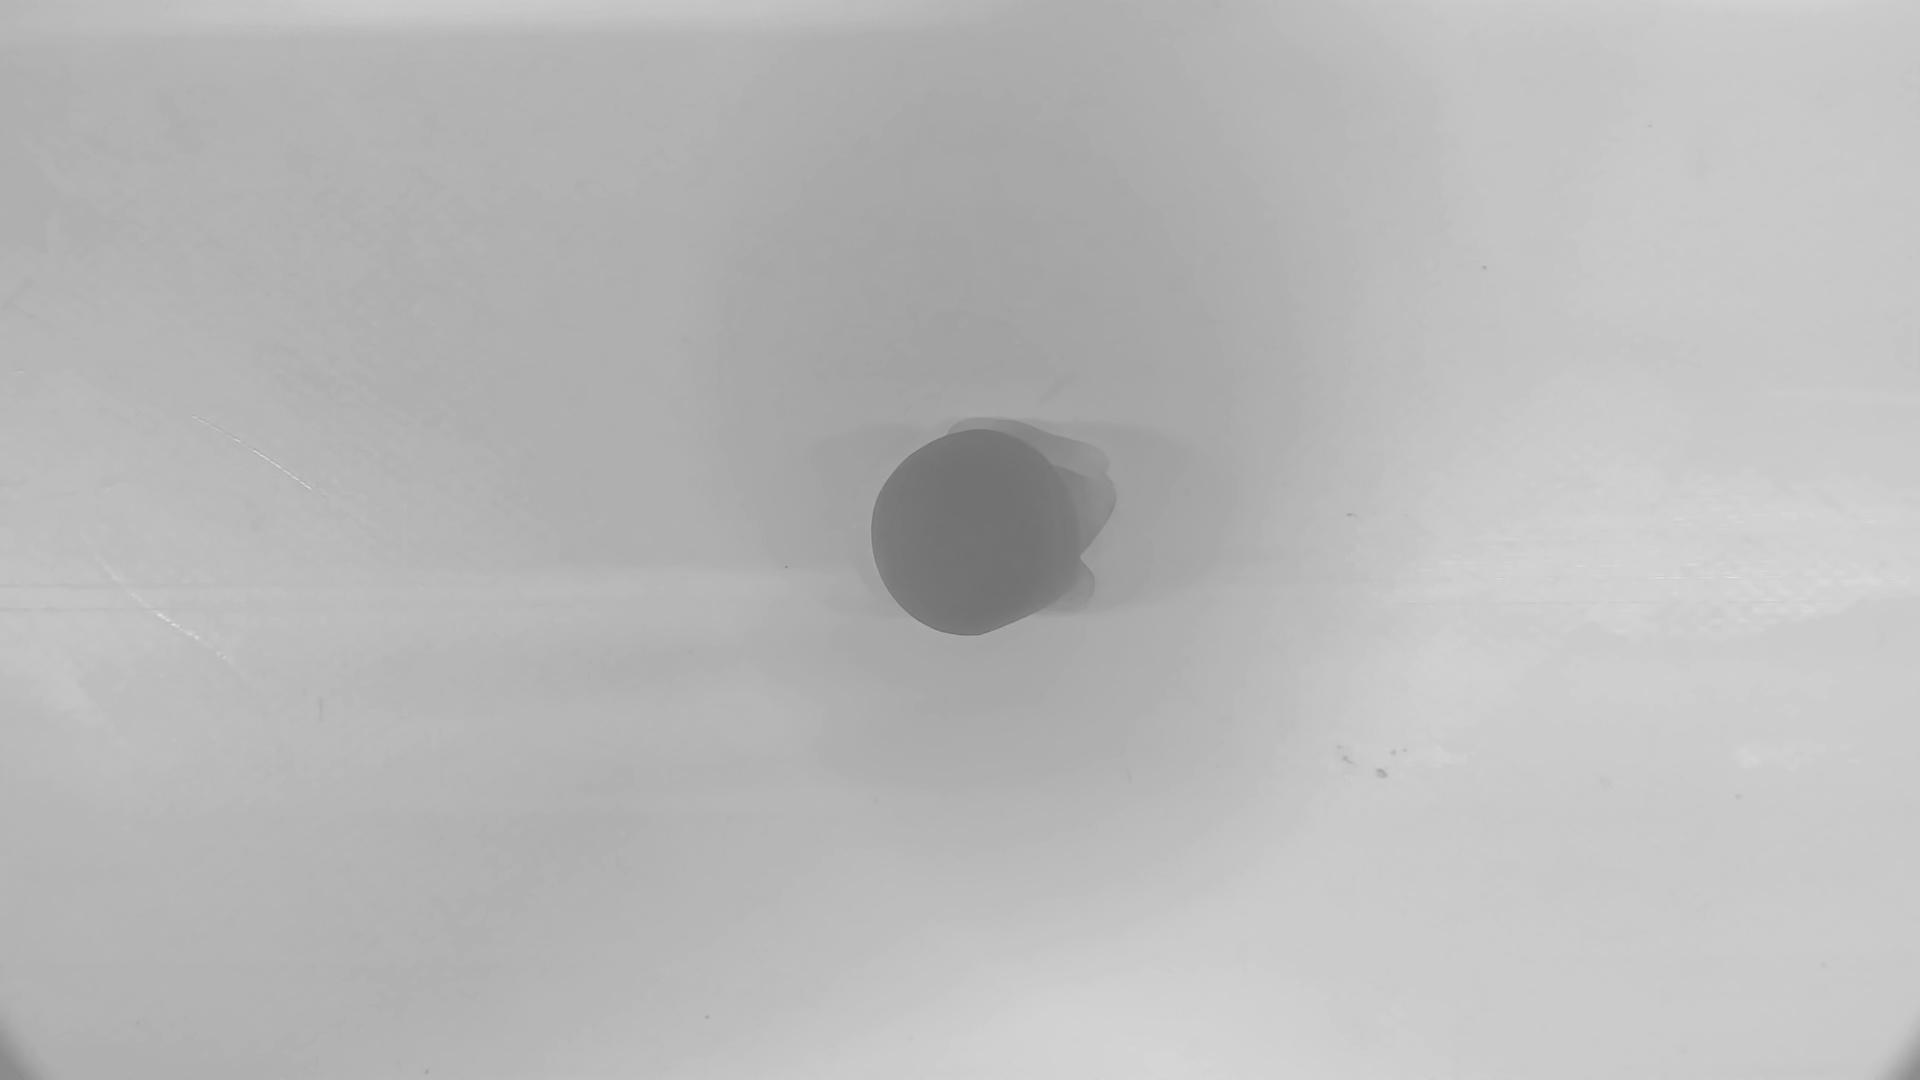abnormal: (870, 414, 1116, 640)
